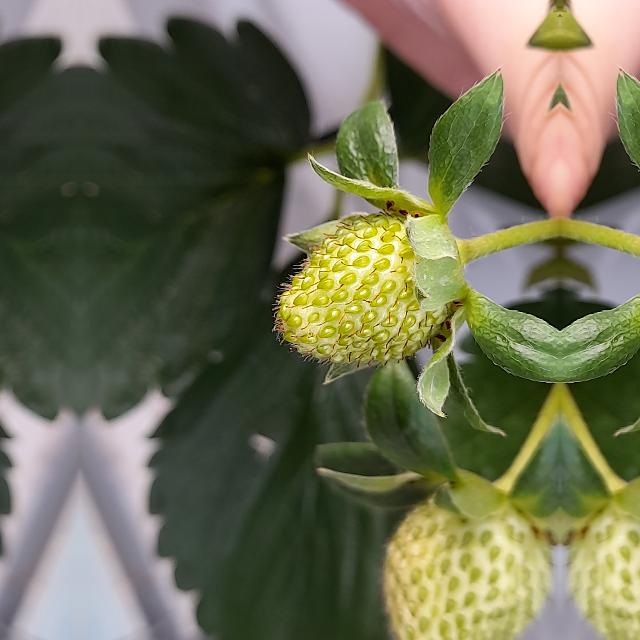Health_25: (270, 208, 448, 368)
